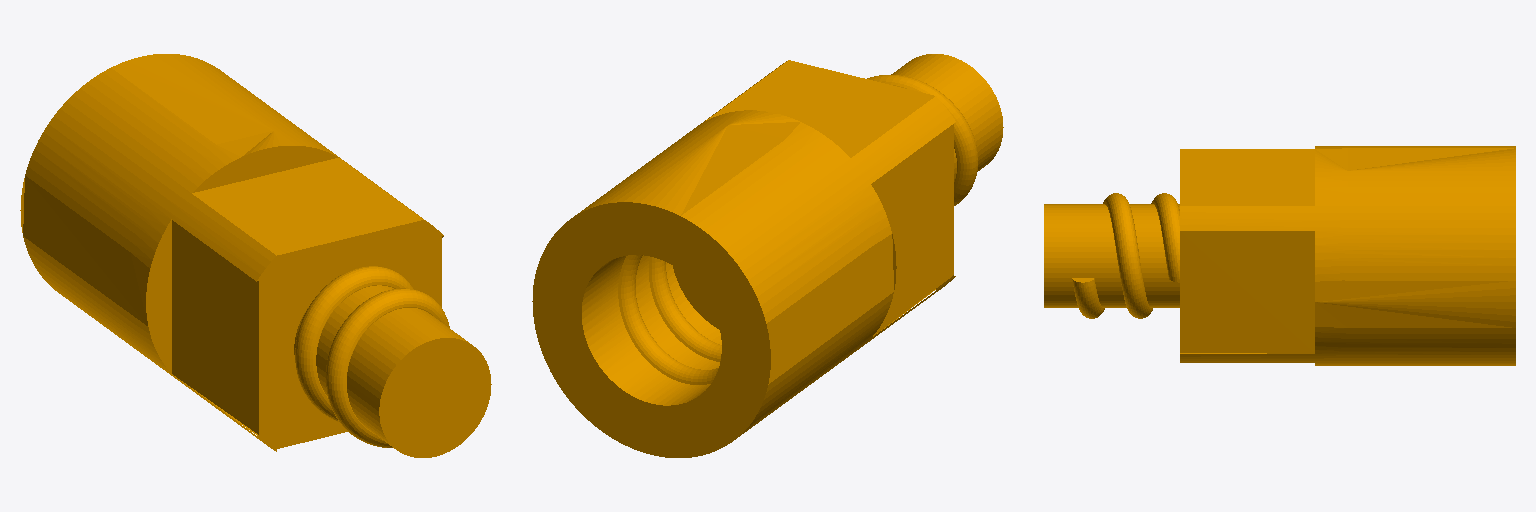
URDF robot description (oval_table_leg):
<?xml version="1.0"?>
<robot name="oval_table_leg">
    <link name="oval_table_leg">
        <visual>
            <geometry>
                <mesh filename="../mesh/oval_table/round_table_leg.obj" scale="1 1 1"/>
            </geometry>
        </visual>
        <collision>
            <geometry>
                <mesh filename="../mesh/oval_table/round_table_leg.obj" scale="1 1 1"/>
            </geometry>
            <sdf resolution="512"/>
        </collision>
        <!-- <inertial>
            <mass value="1."/>
            <inertia ixx="0.0001" ixy="0.0" ixz="0.0" iyy="0.0001" iyz="0.0" izz="0.0001"/>
        </inertial> -->
    </link>
</robot>

--- What the picture shows (computed from the rendered views, not written in the file) ---
The picture shows the robot from 3 angles, left to right: view 1: azimuth 30°, elevation 25°; view 2: azimuth 150°, elevation 25°; view 3: azimuth 270°, elevation 25°; orthographic projection.
Model oval_table_leg with 1 links and 0 joints (none), rooted at oval_table_leg, posed all joints at 0.
Visible links, largest first — view 1: oval_table_leg; view 2: oval_table_leg; view 3: oval_table_leg.
Boxes of the visible links, x1,y1,x2,y2 form: oval_table_leg: (20, 54, 491, 457); oval_table_leg: (532, 54, 1003, 457); oval_table_leg: (1044, 146, 1515, 365).
Size in the robot's own frame: 0.0425 by 0.0913 by 0.0425 metres.
1 mesh visuals loaded from 1 distinct referenced files (1 OBJ).